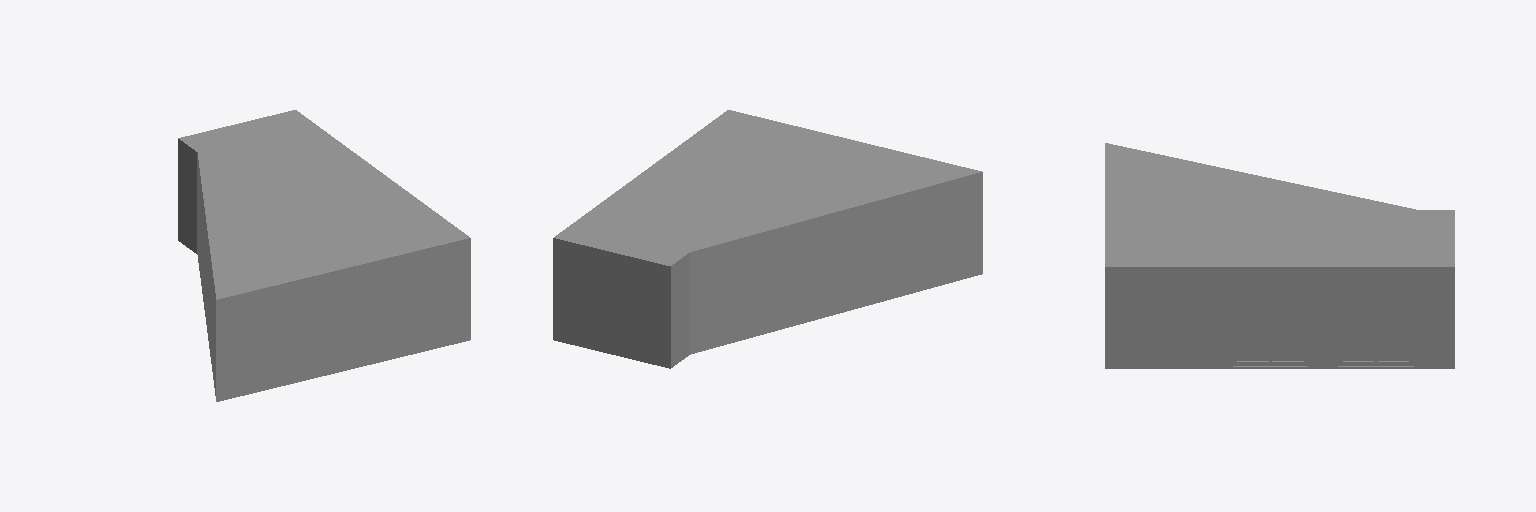
The model's file is office14_layout.obj.
The picture shows the model from 3 angles: view 1: azimuth 30°, elevation 25°; view 2: azimuth 150°, elevation 25°; view 3: azimuth 270°, elevation 25°; orthographic projection.
Parts seen in each view (by area): view 1: wall.036, ceiling.016; view 2: wall.036, ceiling.016; view 3: ceiling.016, wall.036, window.029, window.028.
Boxes of the visible parts, box(x1,y1,x2,y2) form: wall.036: box(178, 110, 470, 401); ceiling.016: box(184, 110, 467, 298); wall.036: box(553, 110, 982, 368); ceiling.016: box(558, 110, 981, 265); ceiling.016: box(1105, 143, 1454, 266); wall.036: box(1105, 143, 1454, 368); window.029: box(1338, 269, 1413, 365); window.028: box(1233, 269, 1307, 365).
Size of the model in its own units: 7.02 by 2.7 by 8.37.